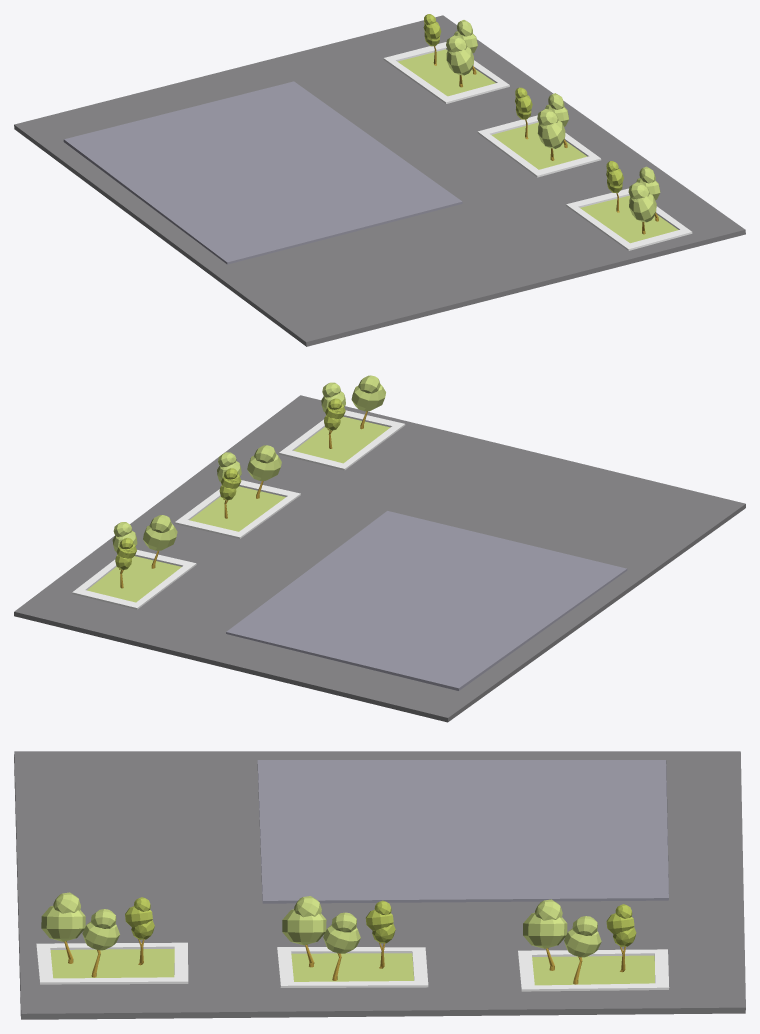
Rendered from biggarden.glb.
3 views of the same model, one above another, from view 1: azimuth 30°, elevation 25°; view 2: azimuth 150°, elevation 25°; view 3: azimuth 270°, elevation 25° (orthographic). The views are drawn at different scales.
Visible parts, largest first — view 1: Sphere_1_30_5; view 2: Sphere_1_30_5; view 3: Sphere_1_30_5.
Boxes of the visible parts, x1=… form: Sphere_1_30_5: x1=14, y1=14, x2=745, y2=346; Sphere_1_30_5: x1=14, y1=375, x2=745, y2=722; Sphere_1_30_5: x1=14, y1=751, x2=745, y2=1019.
Bounding box in the file's own units: 1.12 × 0.1497 × 1.31.
